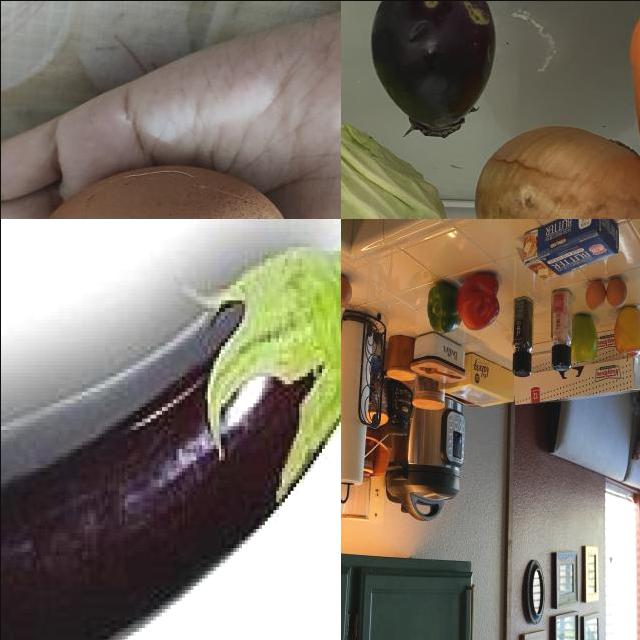bell_pepper: (459, 270, 499, 331), (426, 277, 460, 341), (512, 297, 534, 377)
cabbage: (341, 101, 452, 219)
egg: (21, 162, 294, 219), (606, 275, 626, 309), (585, 279, 605, 312), (341, 269, 355, 305)
eggplant: (1, 244, 341, 640), (368, 1, 496, 143)
onion: (476, 122, 640, 219)
